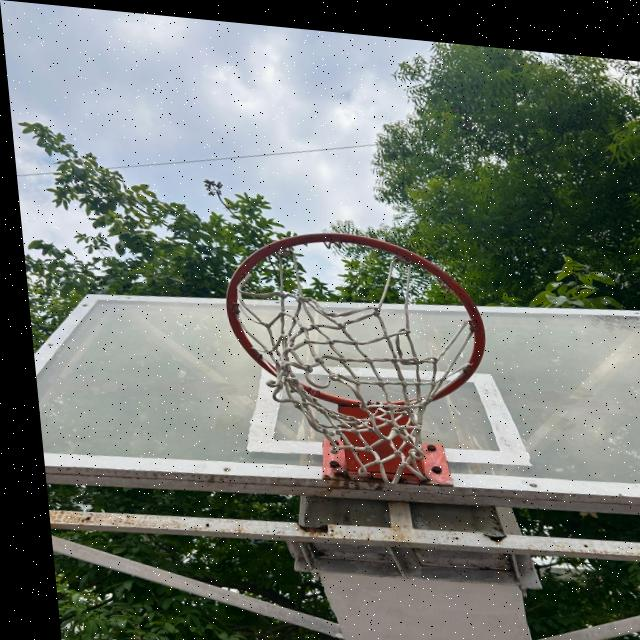hoop: (177, 207, 553, 513)
